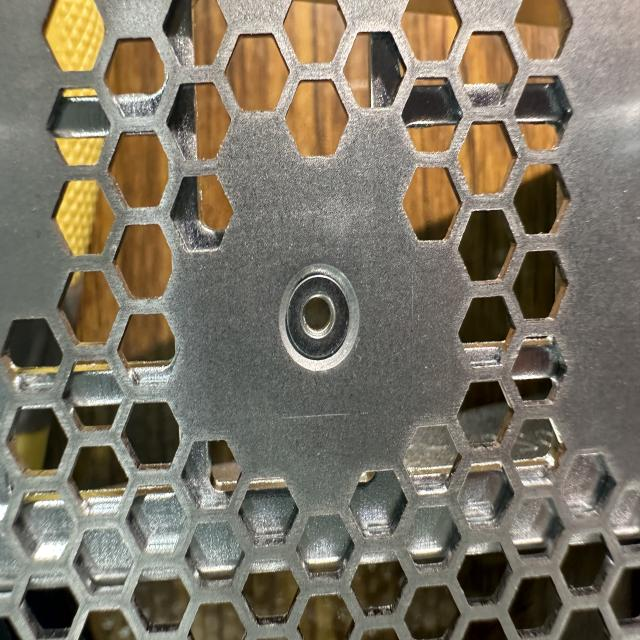Missing screw: (270, 255, 368, 384)
